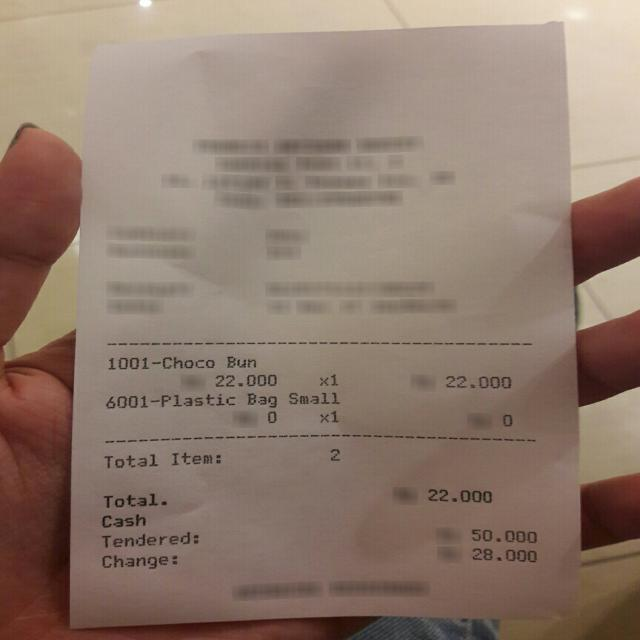kertas: (59, 24, 582, 628)
